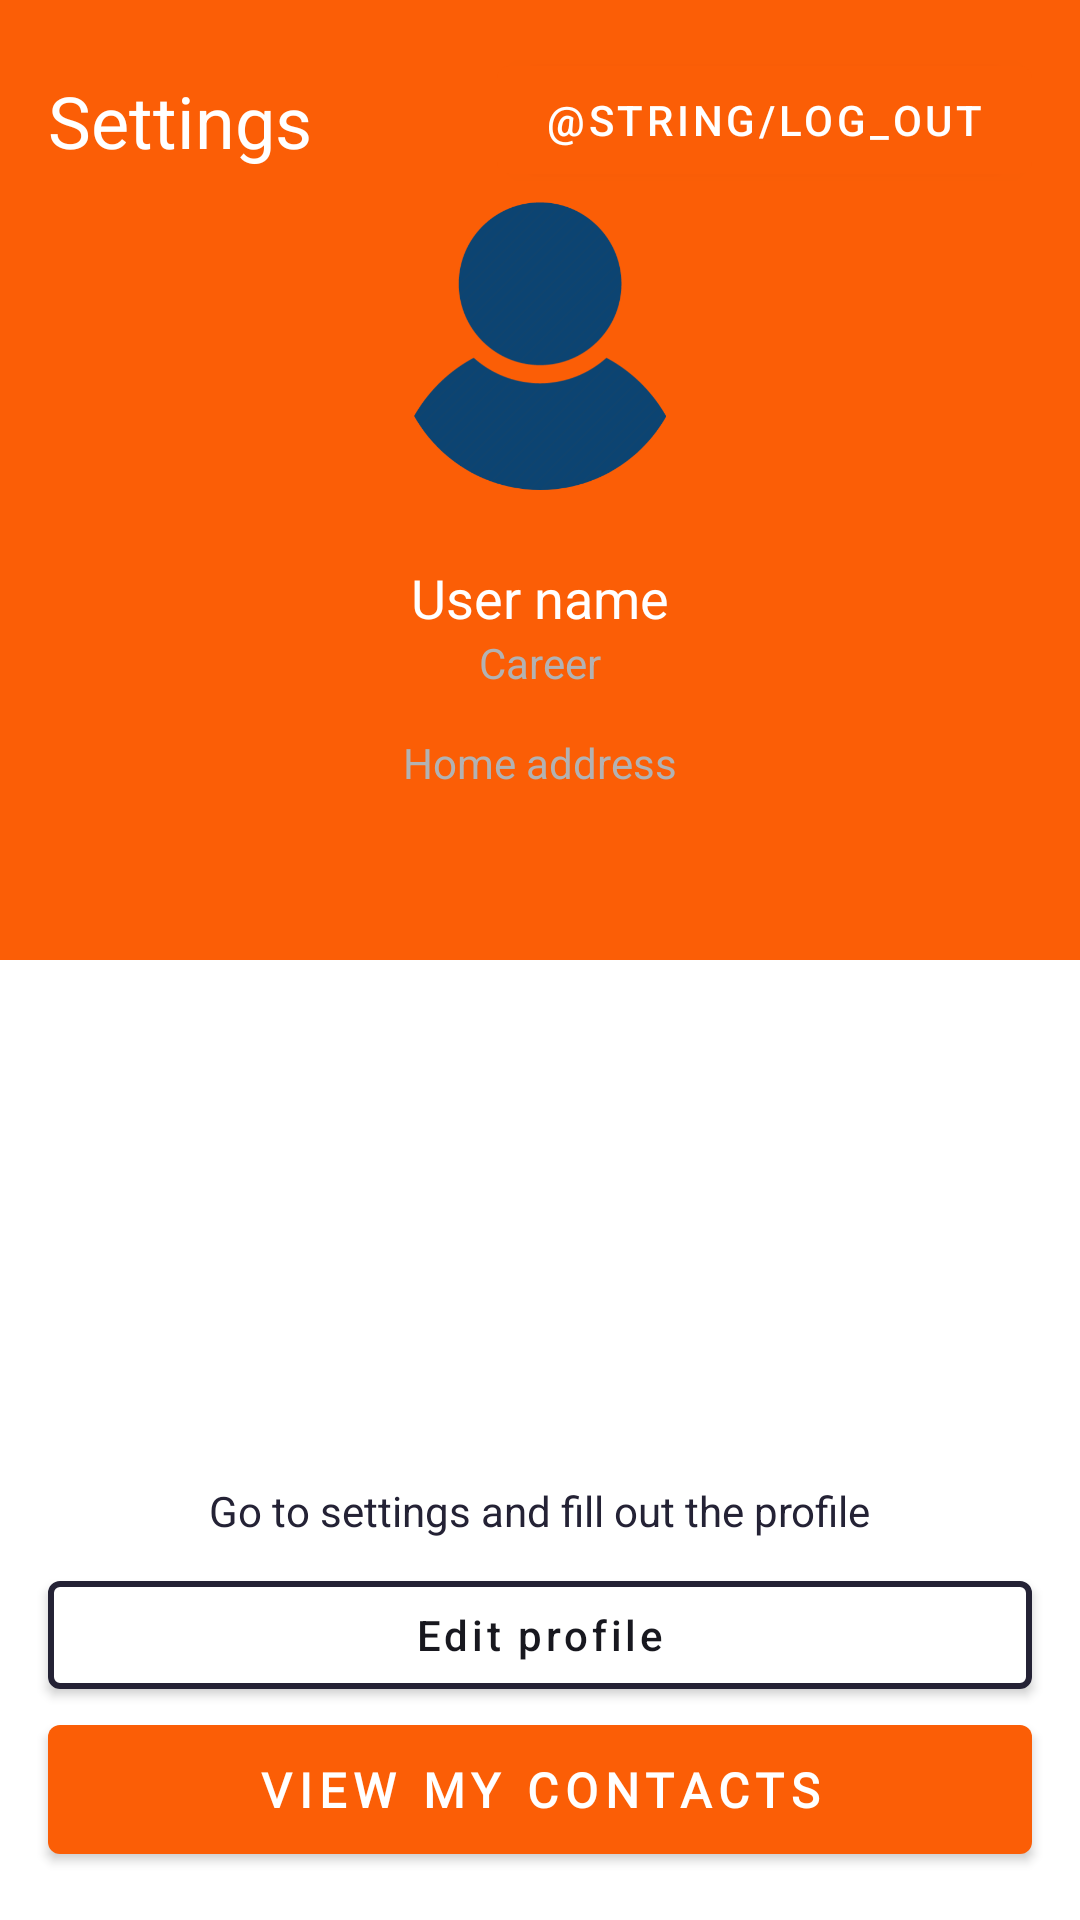

Where icons sit on this 1080w x 1920h app screen, as (x1, y1, x2, y2):
Profile photo: (414, 202, 666, 490)
